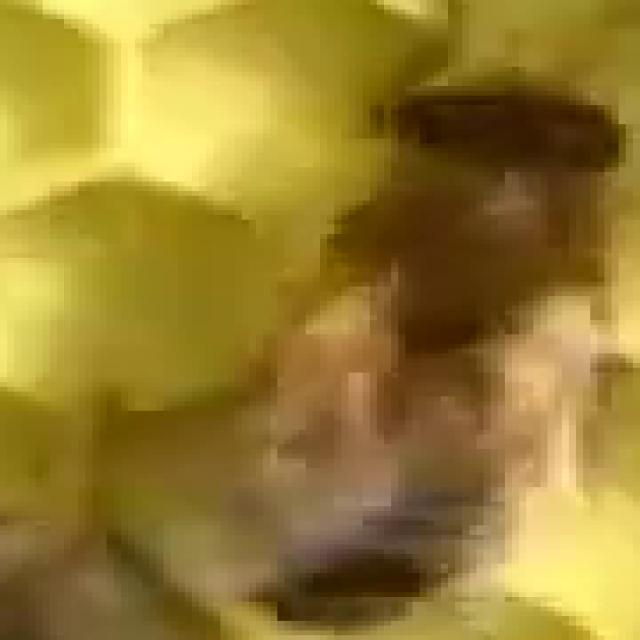honeybee: (301, 59, 610, 619)
